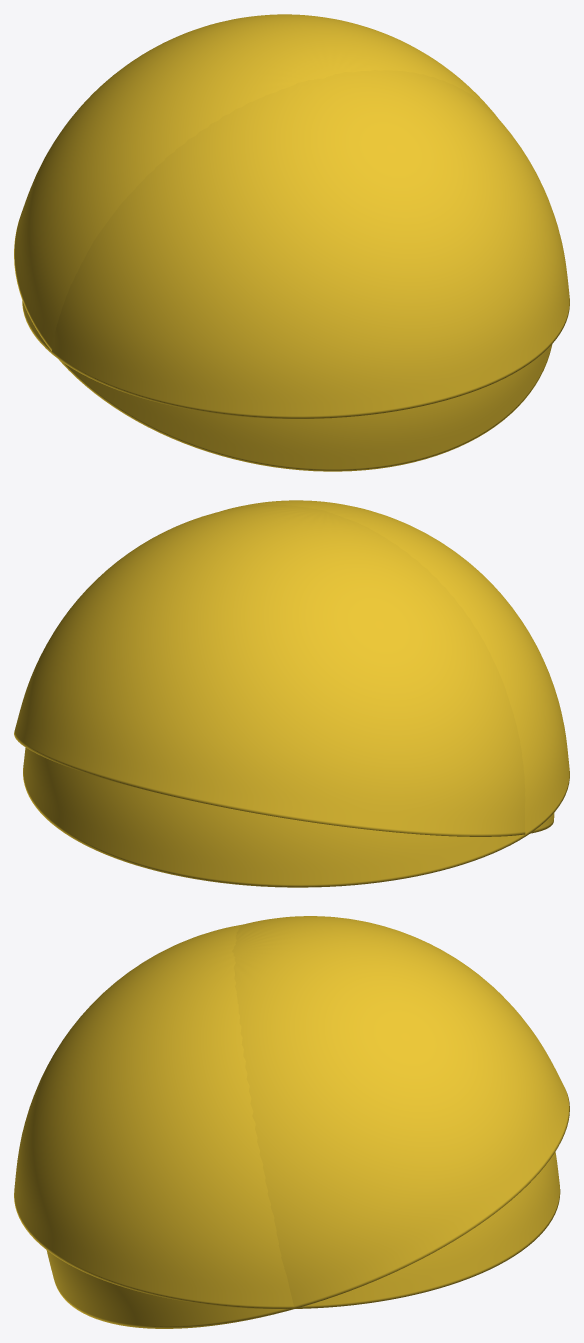
File: pacman.fbx
3 renders of one model, top to bottom at view 1: azimuth 30°, elevation 25°; view 2: azimuth 150°, elevation 25°; view 3: azimuth 270°, elevation 25°, orthographic.
Visible parts, largest first — view 1: Sphere, Sphere.001; view 2: Sphere.001, Sphere; view 3: Sphere.001, Sphere.
Boxes of the visible parts, x1,y1,x2,y2 form: Sphere: [22, 70, 569, 418]; Sphere.001: [14, 14, 552, 471]; Sphere.001: [14, 504, 554, 836]; Sphere: [23, 500, 569, 887]; Sphere.001: [46, 916, 569, 1328]; Sphere: [14, 924, 560, 1308].
Bounding box in the file's own units: 199 × 131 × 202.
